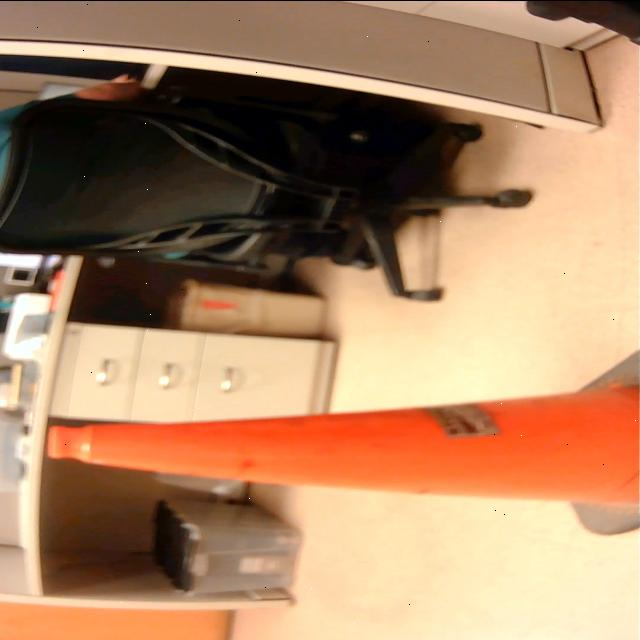traffic cone: (38, 346, 640, 542)
